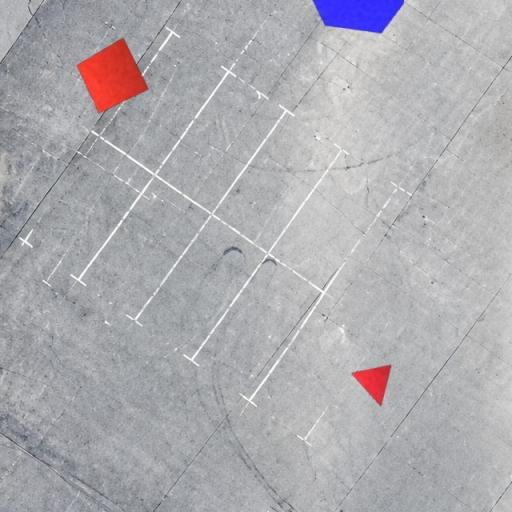RED_SQUARE: (76, 37, 150, 114)
